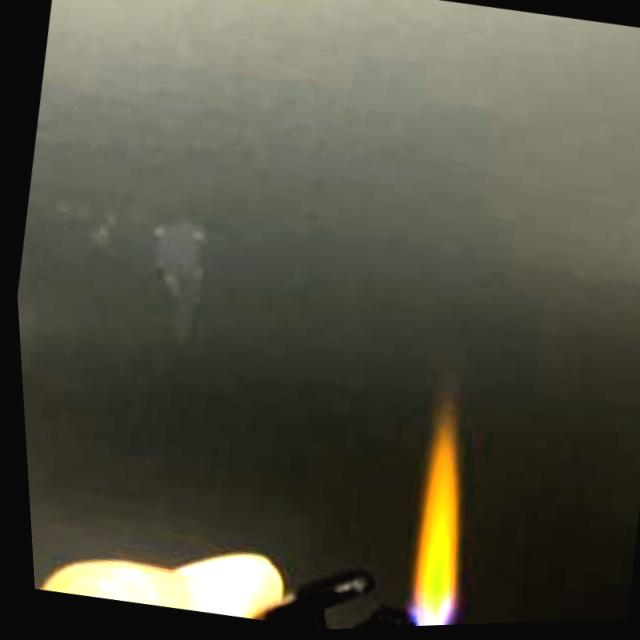fire: (384, 413, 483, 629)
